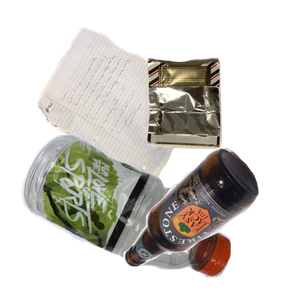glass: (120, 145, 300, 300)
paper: (35, 25, 232, 204)
plastic: (19, 132, 242, 300)
trash: (144, 55, 300, 197)
